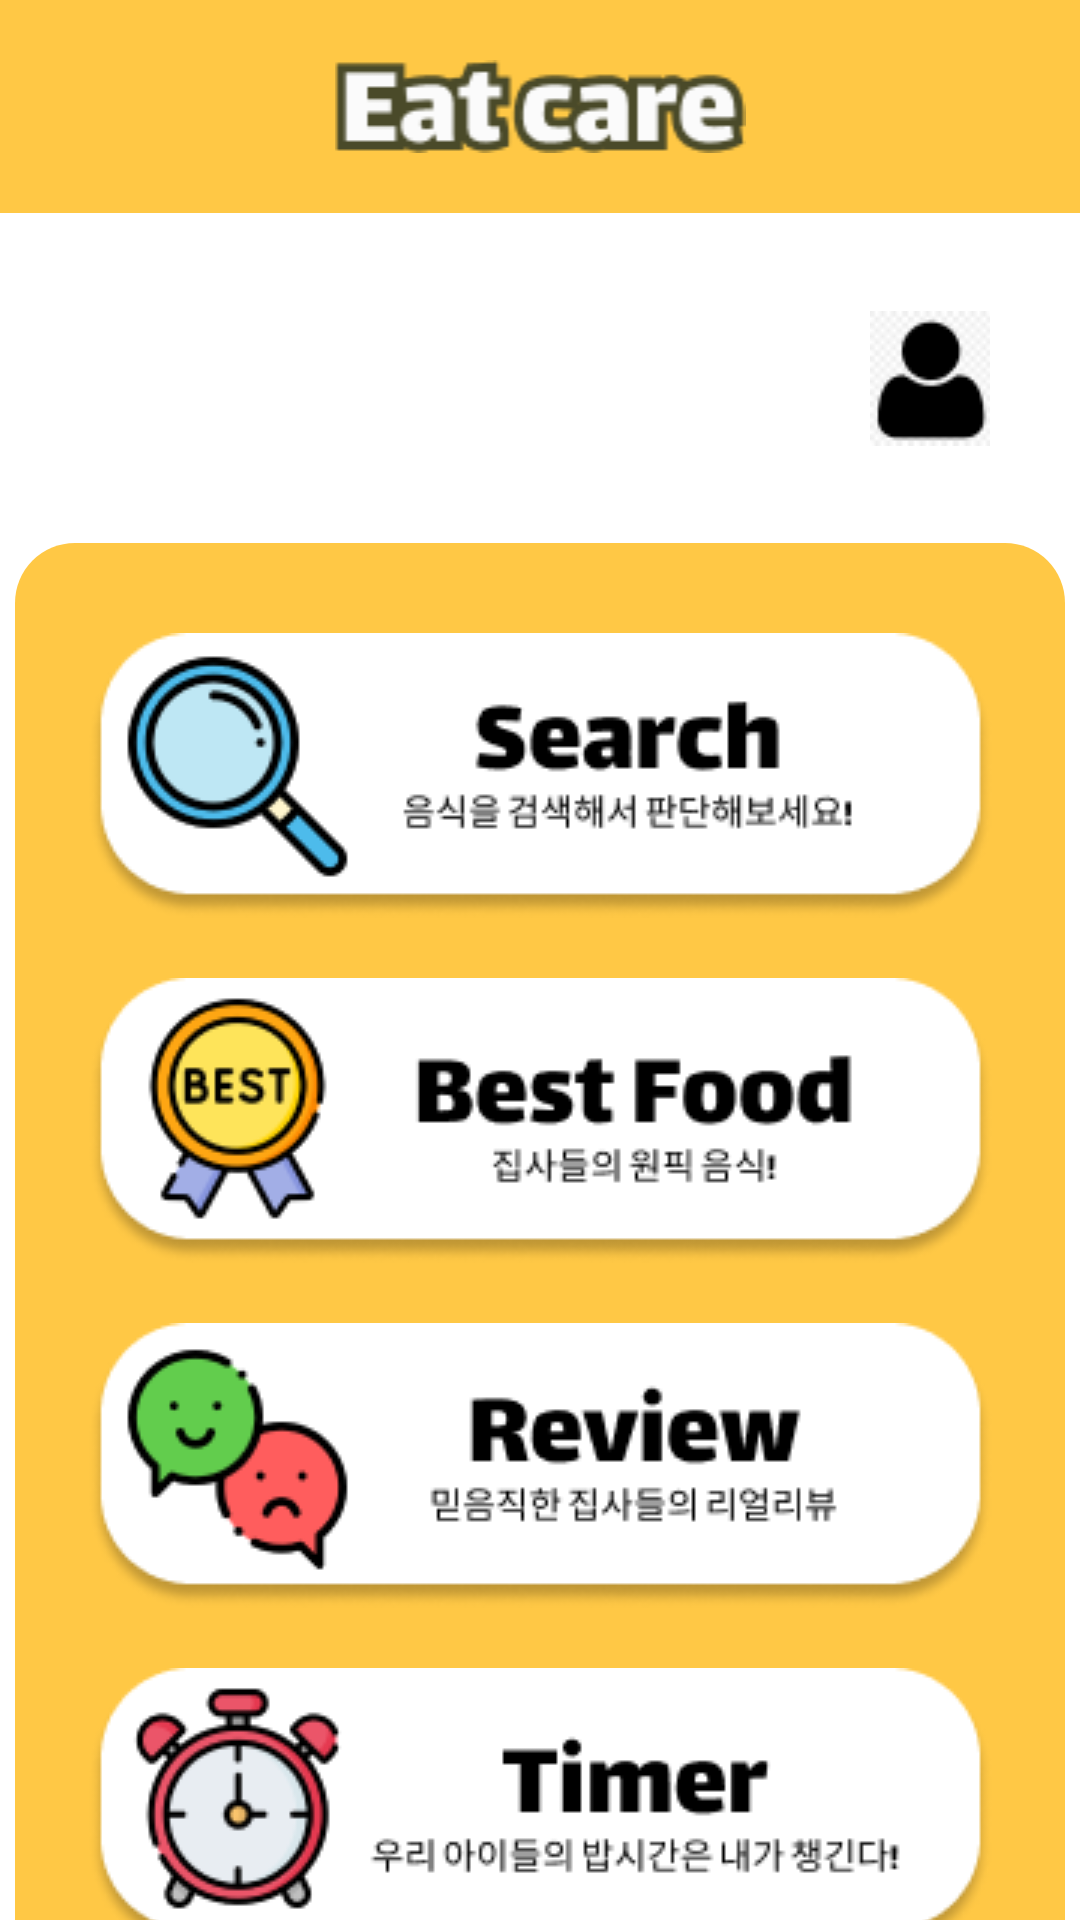

Icons on this 1080 x 1920 Android screen, each with the point to tap as (x,y):
mypage: (932,380)
